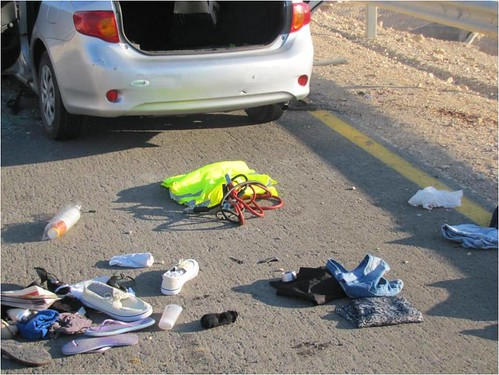car: (11, 1, 310, 122)
trash: (6, 136, 499, 369)
